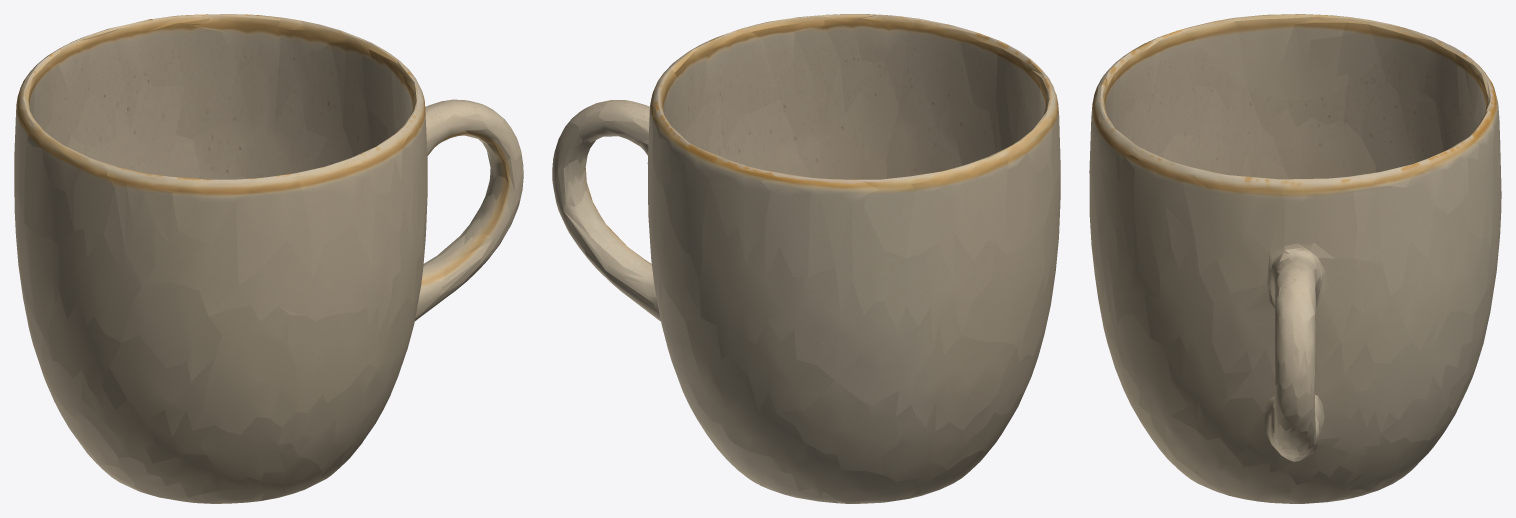
File: Cup.fbx
3 renders of one model, left to right at view 1: azimuth 30°, elevation 25°; view 2: azimuth 150°, elevation 25°; view 3: azimuth 270°, elevation 25°, orthographic.
Parts seen in each view (by area): view 1: Meshy_Remeshed; view 2: Meshy_Remeshed; view 3: Meshy_Remeshed.
Boxes of the visible parts, x1,y1,x2,y2 form: Meshy_Remeshed: (14,14,523,503); Meshy_Remeshed: (552,14,1060,503); Meshy_Remeshed: (1089,14,1501,503).
Size of the model in its own units: 190 by 136 by 142.
Materials: 1 (1 with a texture image).
